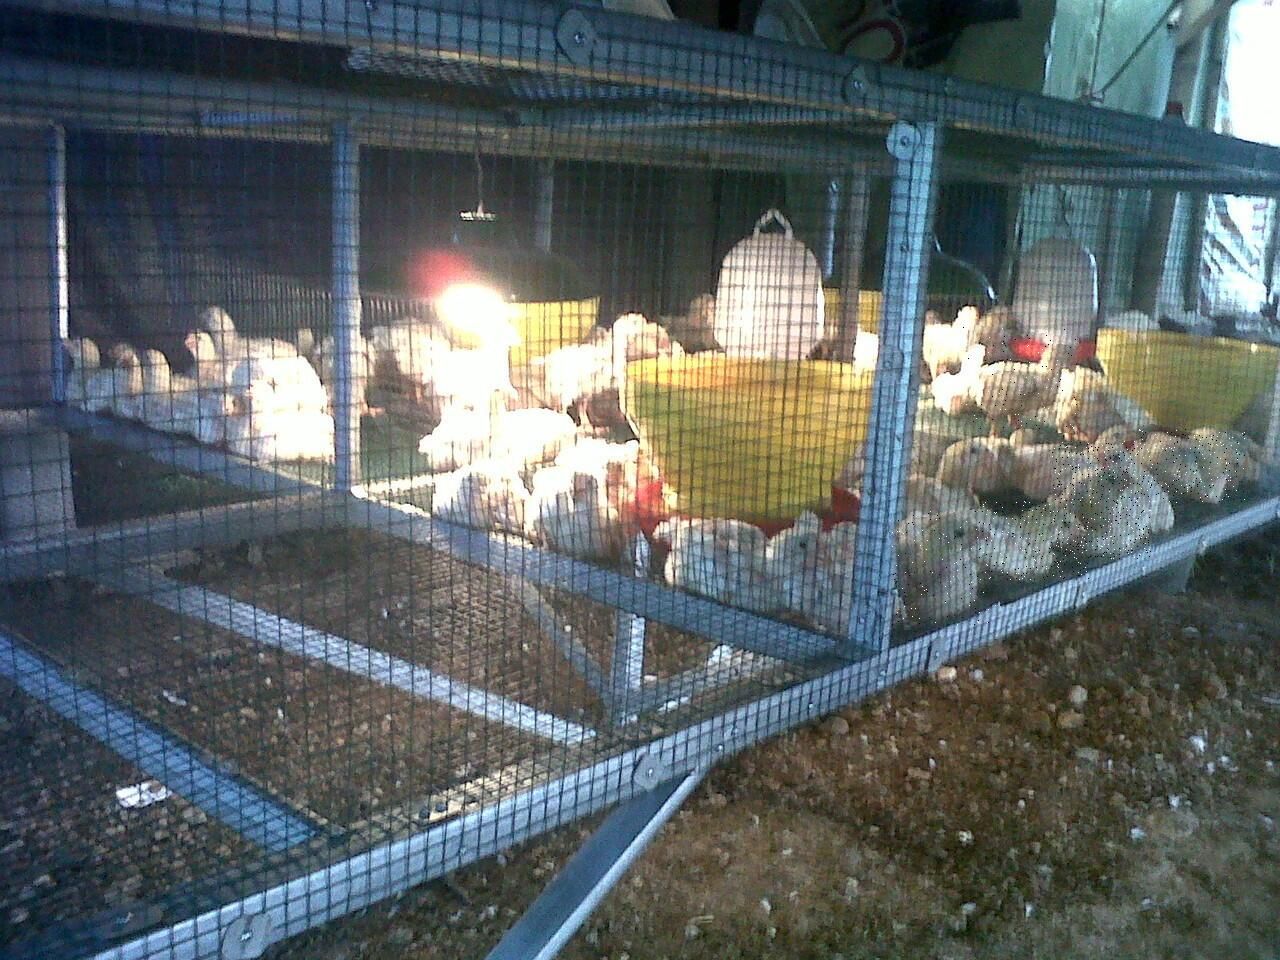chicken: (891, 510, 998, 626), (963, 327, 1076, 430), (1052, 442, 1151, 560), (979, 500, 1090, 580), (1139, 429, 1245, 503)
